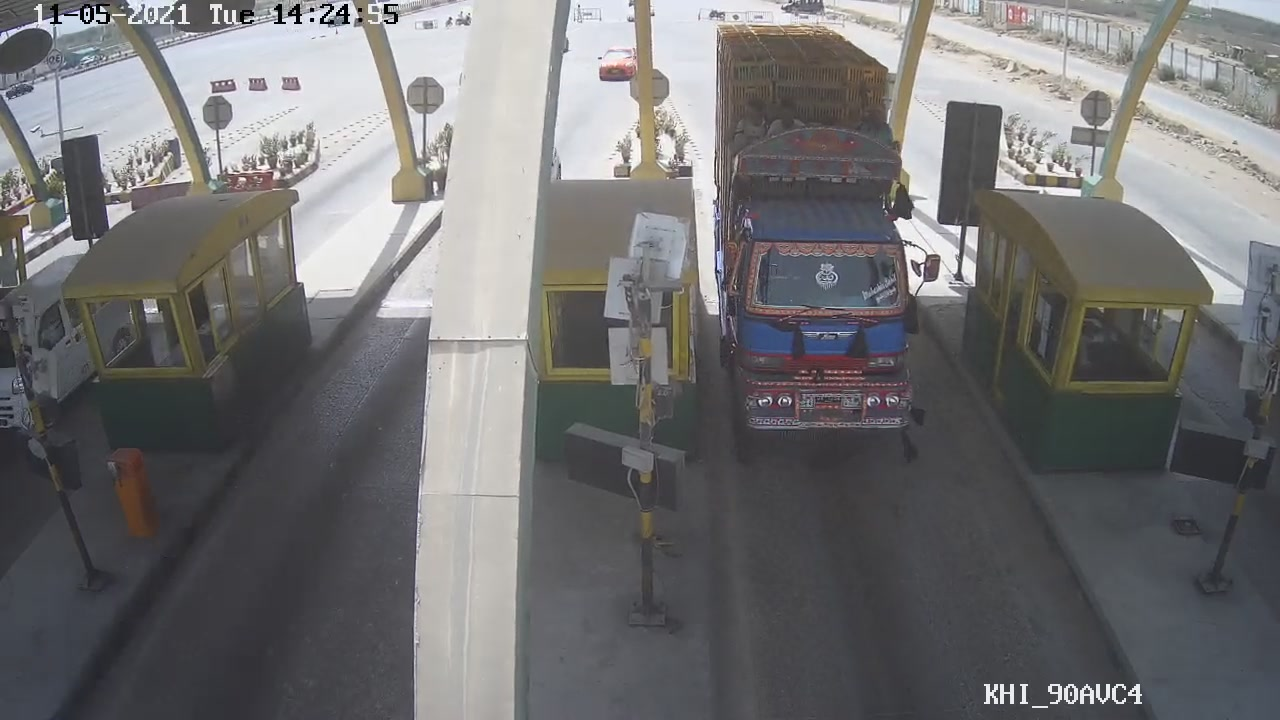F5: (711, 29, 933, 462)
